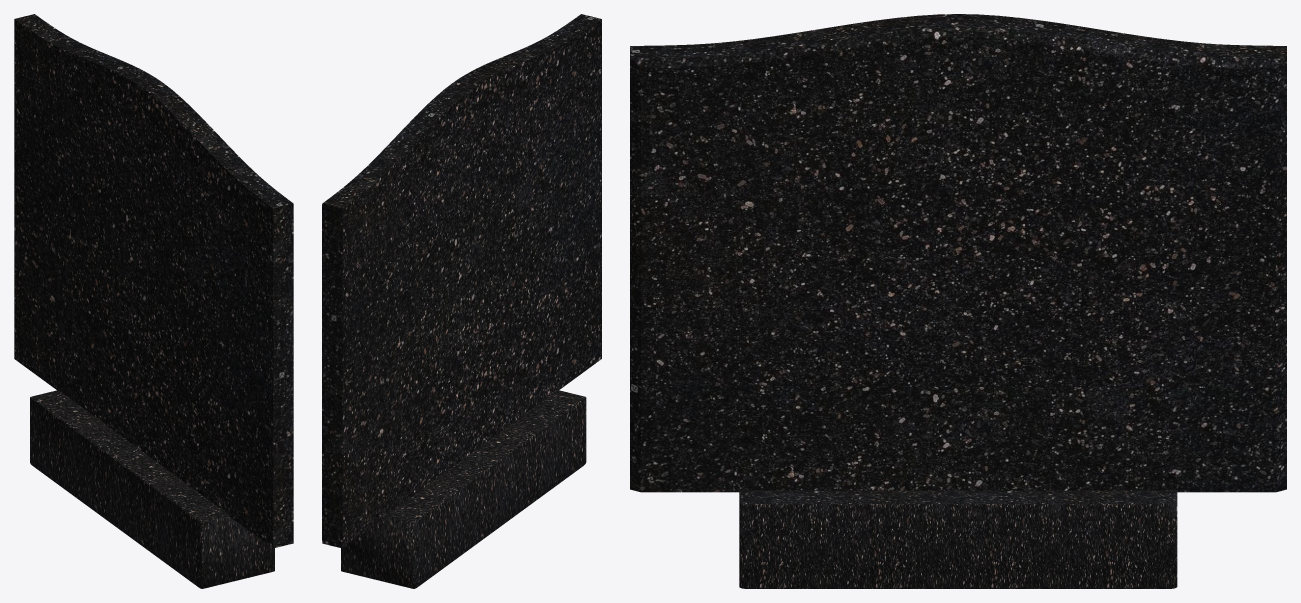
The model's file is Семейный 3 [granite_2_standard] (70).glb.
The picture shows the model from 3 angles, left to right: view 1: azimuth 30°, elevation 25°; view 2: azimuth 150°, elevation 25°; view 3: azimuth 270°, elevation 25°; orthographic projection. The views are drawn at different scales.
Visible parts, largest first — view 1: Cube.013, Куб.001; view 2: Cube.013, Куб.001; view 3: Cube.013, Куб.001.
Part boxes in pixels (x1,y1,x2,y2): Cube.013: (14,14,293,548); Куб.001: (30,390,274,588); Cube.013: (322,14,601,548); Куб.001: (341,390,586,588); Cube.013: (630,14,1286,492); Куб.001: (739,490,1177,588).
Bounding box in the file's own units: 0.15 × 0.8273 × 0.9.
2 materials, 2 textured.
